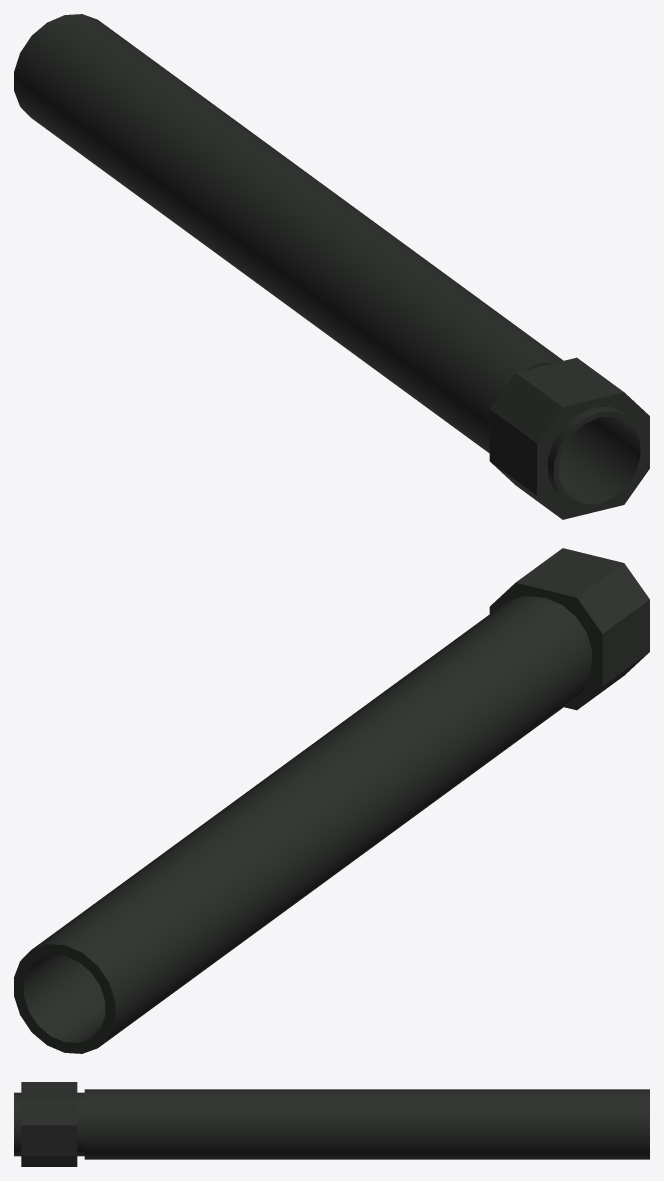
The model's file is LeadObject.DAE.
3 views of the same model, one above another, from view 1: azimuth 30°, elevation 25°; view 2: azimuth 150°, elevation 25°; view 3: azimuth 270°, elevation 25° (orthographic). The views are drawn at different scales.
Parts seen in each view (by area): view 1: Tube001; view 2: Tube001; view 3: Tube001.
Boxes of the visible parts, box(x1,y1,x2,y2) form: Tube001: box(14, 14, 649, 519); Tube001: box(14, 548, 649, 1053); Tube001: box(14, 1082, 649, 1166).
Bounding box in the file's own units: 1.08 × 8.86 × 1.03.
Materials: 1 (1 with a texture image).
